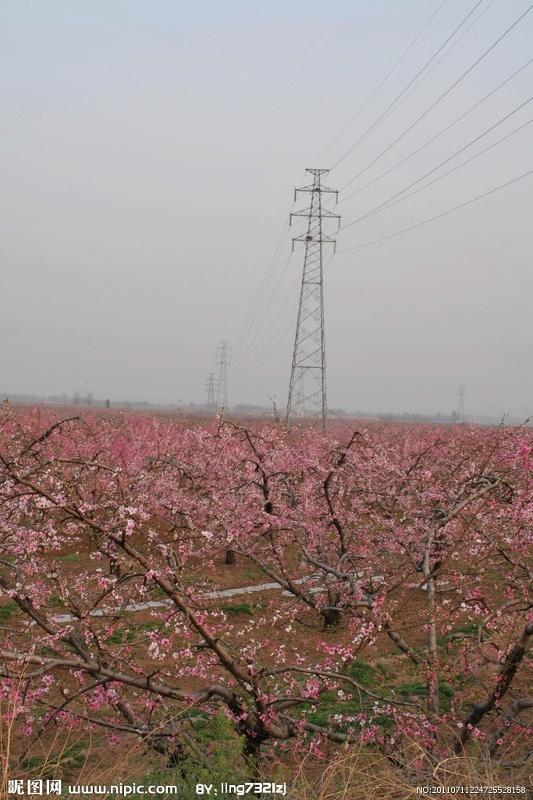power_tower: (277, 155, 348, 425)
